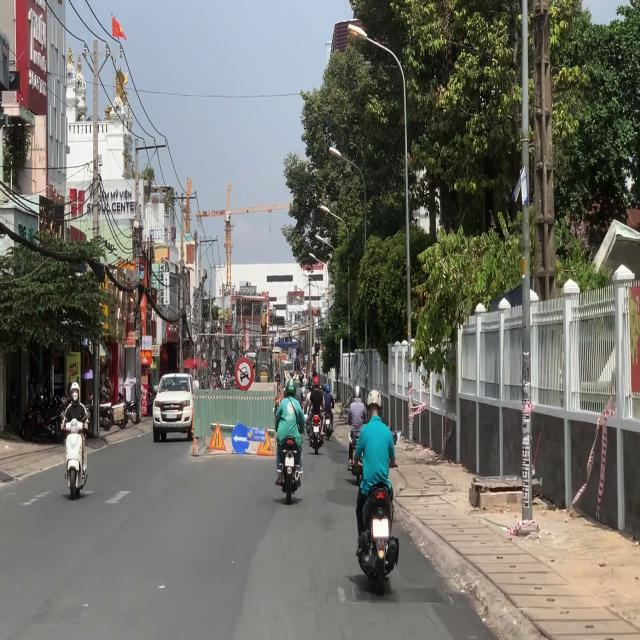Cam con lai: (234, 358, 253, 392)
Nguy hiem: (208, 422, 227, 452), (256, 428, 274, 457)
Re trai: (231, 423, 250, 455)
